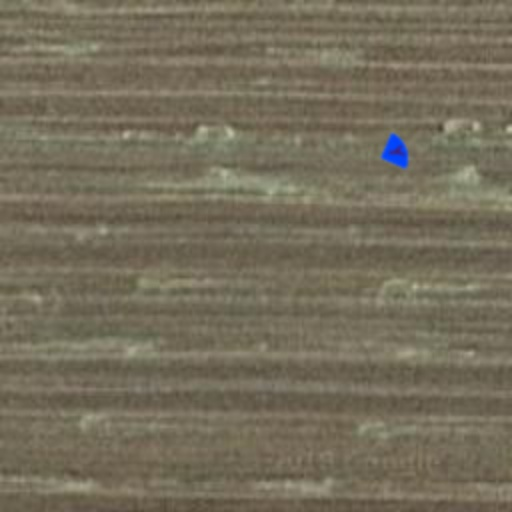quarter_circle: (370, 126, 422, 178)
